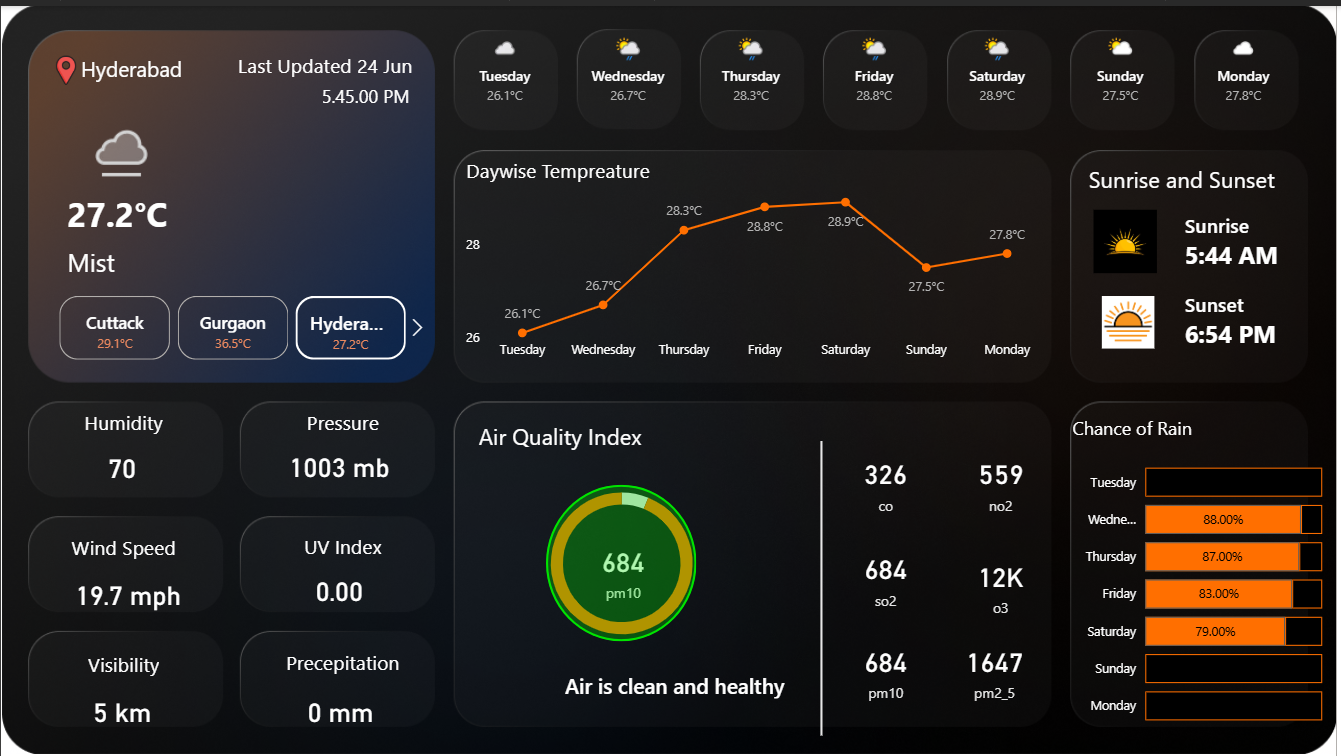

The dashboard page shown, as its layout file describes it:
{"tool":"powerbi","page":{"name":"Page 1","canvas":[1280,720],"ordinal":0},"visuals":[{"type":"advancedSlicerVisual","fields":{"Values":["Location.location.name"]},"box":[31.2,273.3,383.5,71.9],"z":0},{"type":"shape","box":[63.9,172.3,106.6,52.4],"z":1000},{"type":"shape","box":[63.9,219,282.5,52.4],"z":2000},{"type":"shape","box":[217.5,29.6,177.6,53.3],"z":3000},{"type":"shape","box":[76.9,37.1,116.9,45.9],"z":4000},{"type":"image","box":[38.2,38.2,47.8,46.2],"z":5000},{"type":"cardVisual","fields":{"Data":["Min(Current_Day.current.condition.icon)"]},"box":[63.7,84.5,110,89.2],"z":6000},{"type":"card","fields":{"Values":["Measure_Table.LastUpdatedTime"]},"box":[290,73.3,119.5,30.3],"z":7000},{"type":"shape","box":[60.6,500.4,113.1,36.7],"z":8000},{"type":"shape","box":[269.3,380.9,116.3,36.7],"z":9000},{"type":"shape","box":[60.6,380.9,113.1,36.7],"z":10000},{"type":"shape","box":[269.3,498.8,116.3,38.2],"z":11000},{"type":"shape","box":[60.6,612,113.1,38.2],"z":12000},{"type":"shape","box":[269.3,607.2,116.3,43],"z":13000},{"type":"shape","box":[60.6,417.5,110,52.6],"z":14000},{"type":"card","fields":{"Values":["Measure_Table.Curr_humidity"]},"box":[60.6,415.9,110,54.2],"z":15000},{"type":"card","fields":{"Values":["Measure_Table.Curr_Wind"]},"box":[61.6,536.9,121.8,54.9],"z":16000},{"type":"card","fields":{"Values":["Measure_Table.Curr_Vision"]},"box":[61.6,649.4,109.8,54.9],"z":17000},{"type":"card","fields":{"Values":["Measure_Table.Curr_pressure"]},"box":[269.1,415.1,109.8,54.9],"z":18000},{"type":"card","fields":{"Values":["Measure_Table.Curr_uv_Index"]},"box":[269.1,532.9,109.8,54.9],"z":19000},{"type":"card","fields":{"Values":["Measure_Table.Curr_precepit"]},"box":[270.5,649.4,109.8,54.9],"z":20000},{"type":"advancedSlicerVisual","fields":{"Values":["Forcaste_Day.dayName"]},"box":[423.1,20.4,829.4,91.1],"z":21000},{"type":"lineChart","title":"Daywise Tempreature","fields":{"Y":["Sum(Forcaste_Day.forecast.forecastday.day.avgtemp_c)"],"Category":["Forcaste_Day.dayName"]},"box":[440.9,145.3,559.8,203.1],"z":22000},{"type":"shape","title":"Sunrise","box":[1135.4,198.2,117.8,62.9],"z":23000},{"type":"shape","title":"Sunset","box":[1135.4,273.1,117.8,60.3],"z":24000},{"type":"textbox","box":[1037.7,145.9,215.6,44.2],"z":25000},{"type":"image","box":[1037.7,190.1,80.3,71],"z":26000},{"type":"image","box":[1049.7,273.1,61.6,60.3],"z":27000},{"type":"hundredPercentStackedBarChart","title":"Chance of Rain","fields":{"Category":["Forcaste_Day.dayName"],"Y":["Sum(Forcaste_Day.forecast.forecastday.day.daily_chance_of_rain)","Measure_Table.RainChance"]},"box":[1022.6,392.9,249.7,312.1],"z":28000},{"type":"textbox","box":[453.5,392.9,174.4,44.1],"z":29000},{"type":"card","fields":{"Values":["Sum(Current_Day.current.air_quality.no2)"]},"box":[903.3,416.8,110.2,80.8],"z":30000},{"type":"card","fields":{"Values":["Sum(Current_Day.current.air_quality.o3)"]},"box":[903.3,515.9,110.2,80.8],"z":31000},{"type":"card","fields":{"Values":["Sum(Current_Day.current.air_quality.so2)"]},"box":[793.1,508.6,110.2,80.8],"z":32000},{"type":"card","fields":{"Values":["Sum(Current_Day.current.air_quality.pm2_5)"]},"box":[897.8,596.7,110.2,80.8],"z":33000},{"type":"card","fields":{"Values":["Sum(Current_Day.current.air_quality.so2)"]},"box":[793.1,596.7,110.2,80.8],"z":34000},{"type":"card","fields":{"Values":["Avg(Current_Day.current.air_quality.co)"]},"box":[793.1,416.8,110.2,80.8],"z":35000},{"type":"shape","box":[780.3,416.8,12.9,282.7],"z":36000},{"type":"card","fields":{"Values":["Sum(Current_Day.current.air_quality.so2)"]},"box":[541.6,501.2,110.2,80.8],"z":37000},{"type":"donutChart","fields":{"Y":["Avg(Current_Day.current.air_quality.pm10)","Measure_Table.pm10Left"]},"box":[481,444.3,229.5,179.9],"z":38000},{"type":"textbox","box":[536.1,637.1,231.3,62.4],"z":39000},{"type":"shape","box":[522.3,458.8,144.3,150],"z":39002}]}

Visuals, with their boxes in screenshot pixels (x1, y1, x2, y2), scaled from the page's 1280x720 canvas onto the 1341x756 screenshot:
advancedSlicerVisual - Location.location.name: [33, 287, 434, 362]
shape: [67, 181, 179, 236]
shape: [67, 230, 363, 285]
shape: [228, 31, 414, 87]
shape: [81, 39, 203, 87]
image: [40, 40, 90, 89]
cardVisual - Min(Current_Day.current.condition.icon): [67, 89, 182, 182]
card - Measure_Table.LastUpdatedTime: [304, 77, 429, 109]
shape: [63, 525, 182, 564]
shape: [282, 400, 404, 438]
shape: [63, 400, 182, 438]
shape: [282, 524, 404, 564]
shape: [63, 643, 182, 683]
shape: [282, 638, 404, 683]
shape: [63, 438, 179, 494]
card - Measure_Table.Curr_humidity: [63, 437, 179, 494]
card - Measure_Table.Curr_Wind: [65, 564, 192, 621]
card - Measure_Table.Curr_Vision: [65, 682, 180, 740]
card - Measure_Table.Curr_pressure: [282, 436, 397, 494]
card - Measure_Table.Curr_uv_Index: [282, 560, 397, 617]
card - Measure_Table.Curr_precepit: [283, 682, 398, 740]
advancedSlicerVisual - Forcaste_Day.dayName: [443, 21, 1312, 117]
"Daywise Tempreature" lineChart: [462, 153, 1048, 366]
"Sunrise" shape: [1190, 208, 1313, 274]
"Sunset" shape: [1190, 287, 1313, 350]
textbox: [1087, 153, 1313, 200]
image: [1087, 200, 1171, 274]
image: [1100, 287, 1164, 350]
"Chance of Rain" hundredPercentStackedBarChart: [1071, 413, 1333, 740]
textbox: [475, 413, 658, 459]
card - Sum(Current_Day.current.air_quality.no2): [946, 438, 1062, 522]
card - Sum(Current_Day.current.air_quality.o3): [946, 542, 1062, 627]
card - Sum(Current_Day.current.air_quality.so2): [831, 534, 946, 619]
card - Sum(Current_Day.current.air_quality.pm2_5): [941, 627, 1056, 711]
card - Sum(Current_Day.current.air_quality.so2): [831, 627, 946, 711]
card - Avg(Current_Day.current.air_quality.co): [831, 438, 946, 522]
shape: [817, 438, 831, 734]
card - Sum(Current_Day.current.air_quality.so2): [567, 526, 683, 611]
donutChart - Avg(Current_Day.current.air_quality.pm10) x Measure_Table.pm10Left: [504, 467, 744, 655]
textbox: [562, 669, 804, 734]
shape: [547, 482, 698, 639]
